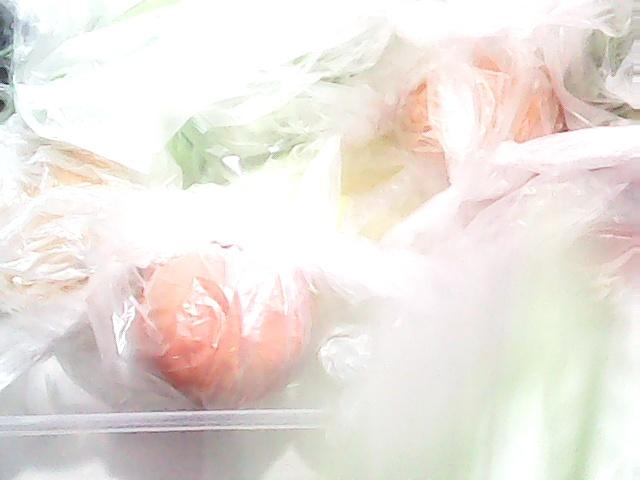lemon: (380, 42, 572, 163)
peach: (133, 242, 314, 410)
potato: (0, 133, 144, 308)
